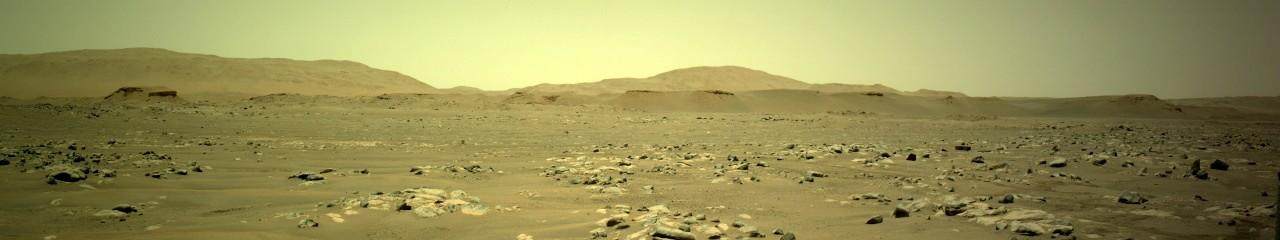bedrock: (10, 126, 1256, 236), (12, 211, 166, 228), (1066, 121, 1263, 123), (895, 234, 944, 236), (2, 221, 3, 236)
sand: (9, 88, 1271, 119)
soil: (680, 124, 1279, 237), (28, 103, 1073, 130), (3, 108, 8, 201)
